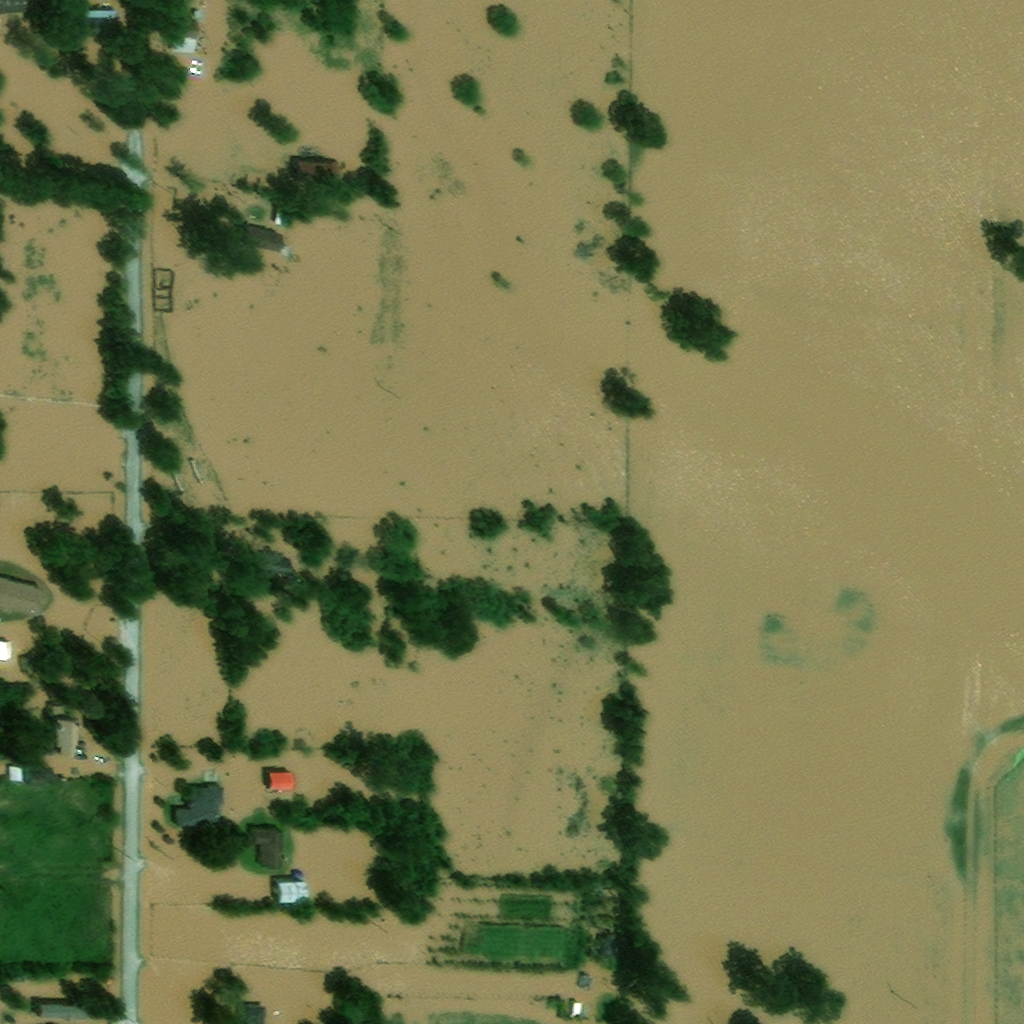major_damage: (51, 712, 80, 757), (242, 226, 287, 255), (80, 10, 120, 42), (297, 160, 344, 185), (38, 1002, 89, 1021), (175, 22, 201, 58), (277, 880, 307, 904), (262, 554, 291, 575), (270, 771, 293, 792), (0, 0, 27, 16), (243, 1007, 268, 1023), (279, 205, 294, 229), (602, 939, 618, 956), (291, 533, 304, 550), (0, 643, 13, 660), (21, 525, 30, 549), (583, 977, 594, 993), (40, 747, 53, 755), (25, 660, 33, 673), (66, 650, 75, 660), (285, 249, 293, 259), (199, 12, 206, 22), (85, 777, 93, 784)
minor_damage: (177, 787, 226, 828), (250, 827, 284, 869), (12, 761, 55, 784)
unclassified: (162, 5, 190, 14)
